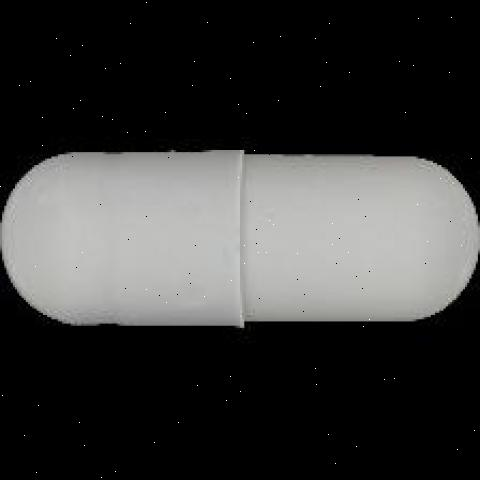Pill: (0, 116, 480, 384)
